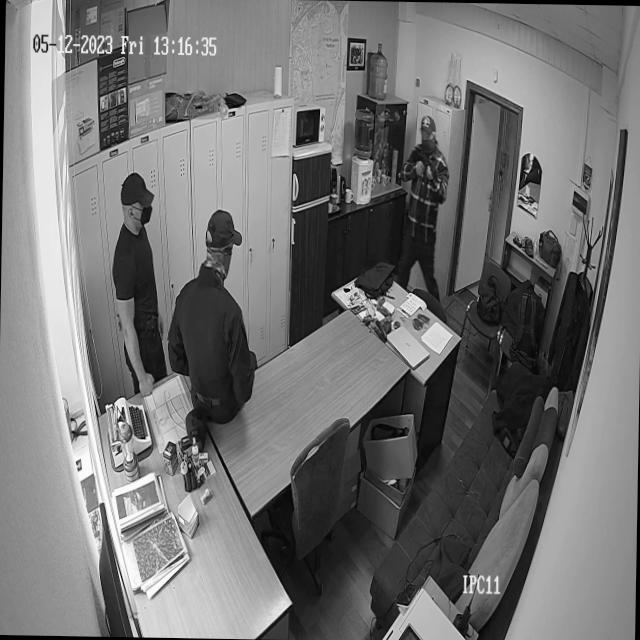gun: (412, 153, 447, 186), (512, 232, 523, 248)
person: (166, 205, 263, 424), (112, 166, 170, 390)
person with a gun: (399, 112, 453, 306)
